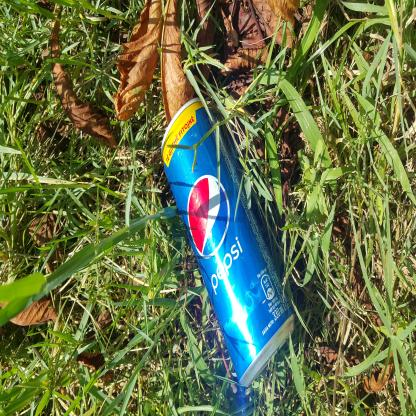trash: (8, 270, 193, 416)
